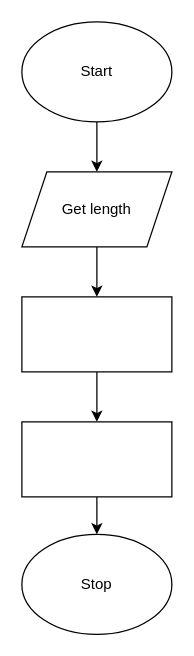
Some shapes in this 194 by 656 pixel diagram are drawn without their labels. Each missing label, with the centre of its shape:
"return volume" belongs at [96,459].
"volume = length*length*length" belongs at [96,334].
